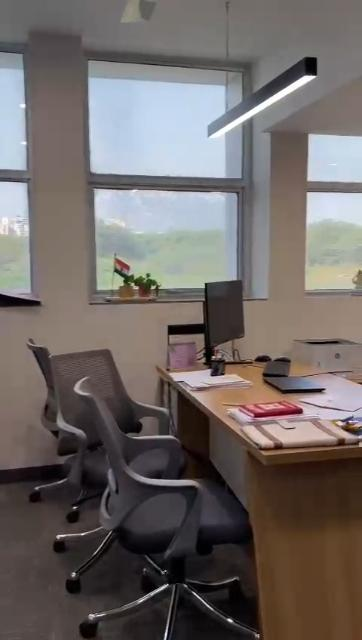object: (60, 406, 232, 640), (19, 328, 171, 510), (198, 280, 260, 374)
wall: (30, 4, 86, 348), (249, 123, 309, 340), (2, 320, 34, 464), (87, 306, 205, 328), (80, 320, 166, 350), (305, 297, 362, 339), (127, 346, 157, 394)
